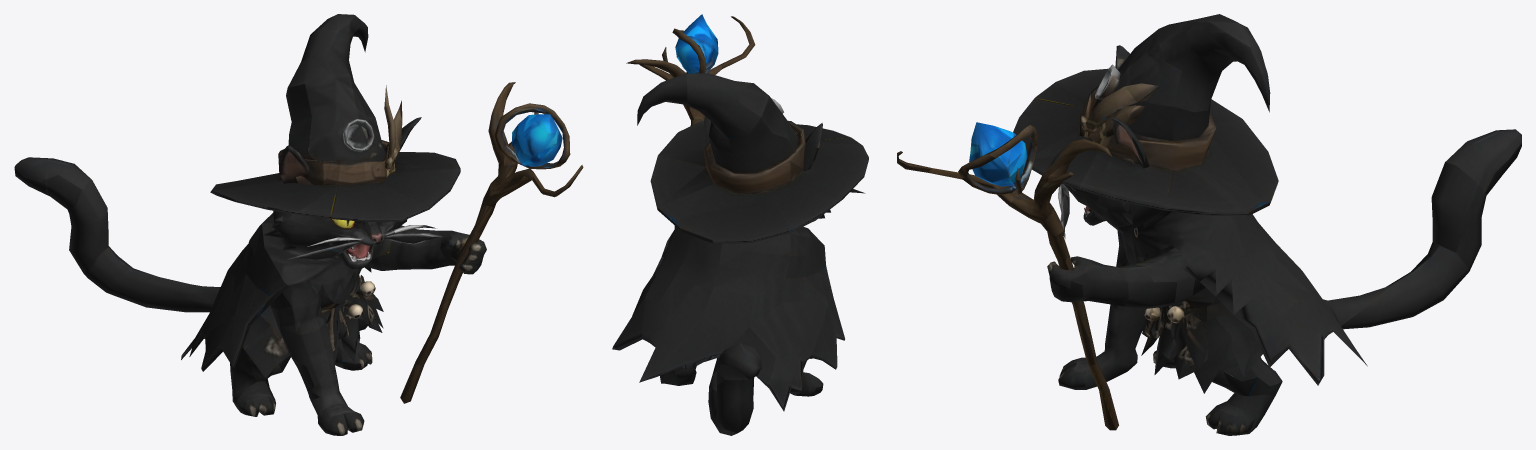
The model's file is p_dont_za.glb.
3 renders of one model, left to right at view 1: azimuth 30°, elevation 25°; view 2: azimuth 150°, elevation 25°; view 3: azimuth 270°, elevation 25°, orthographic. The views are drawn at different scales.
Visible parts, largest first — view 1: mesh_node; view 2: mesh_node; view 3: mesh_node.
Part boxes in pixels (left/top/right/bottom): mesh_node: left=14, top=14, right=583, bottom=435; mesh_node: left=612, top=14, right=868, bottom=435; mesh_node: left=897, top=14, right=1521, bottom=435.
Size of the model in its own units: 0.6875 by 0.707 by 1.
1 material, 1 textured.
